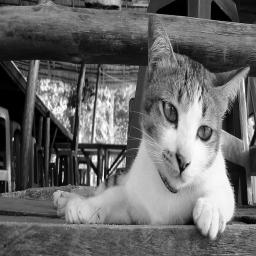catnose: (175, 150, 191, 176)
